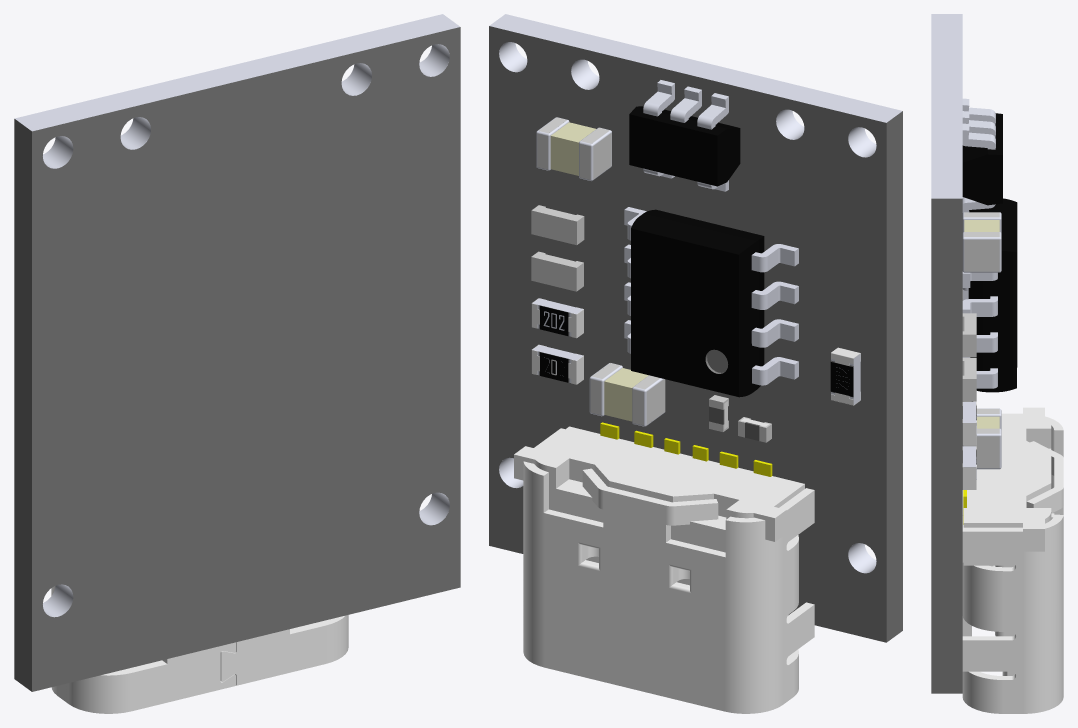
3 renders of one model, left to right at view 1: azimuth 30°, elevation 25°; view 2: azimuth 150°, elevation 25°; view 3: azimuth 270°, elevation 25°, orthographic. The views are drawn at different scales.
Parts seen in each view (by area): view 1: TP4056 Mini; view 2: TP4056 Mini; view 3: TP4056 Mini.
Part boxes in pixels (x1,y1,x2,y2): TP4056 Mini: (14, 14, 460, 713); TP4056 Mini: (489, 14, 902, 713); TP4056 Mini: (931, 14, 1063, 713).
Size of the model in its own units: 0.014 by 0.0194 by 0.00424.
